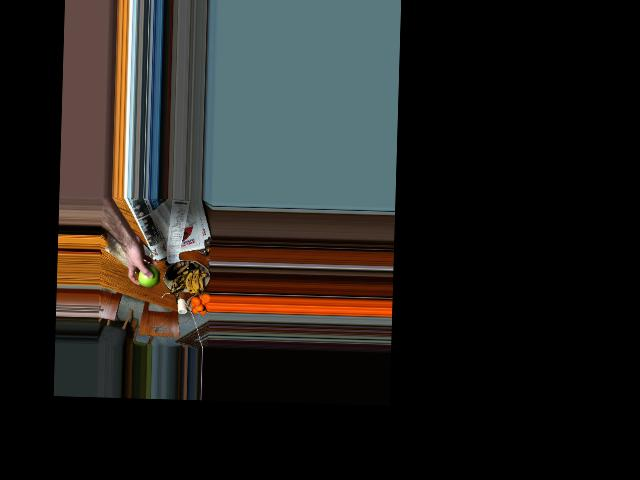apple: (138, 263, 160, 287)
